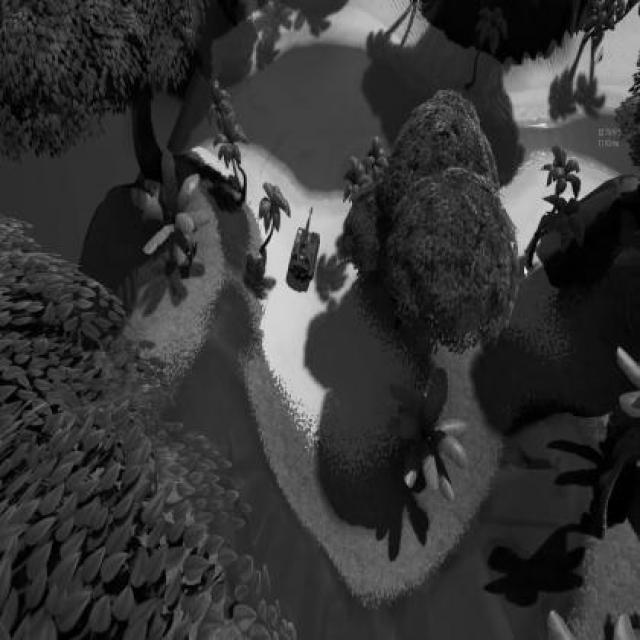tank: (287, 206, 321, 282)
